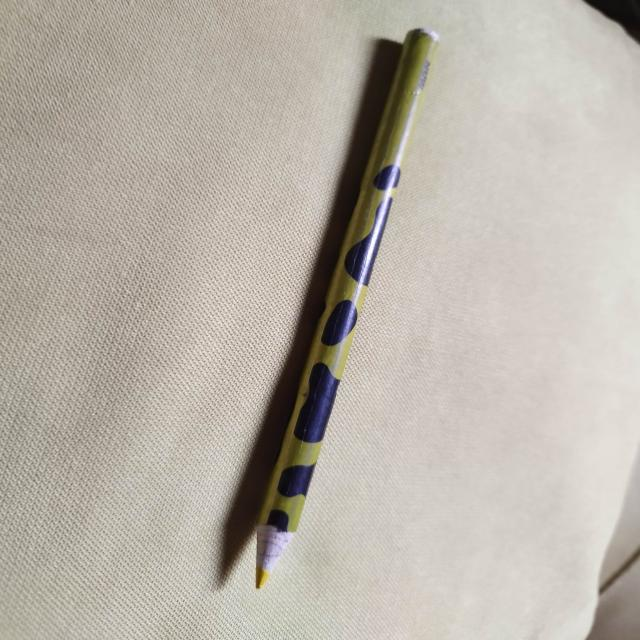pencil: (252, 27, 440, 589)
